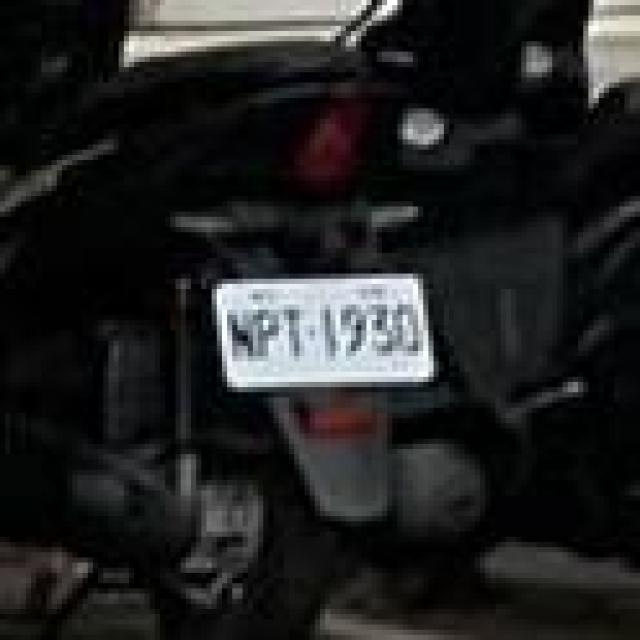W: (196, 253, 444, 402)
